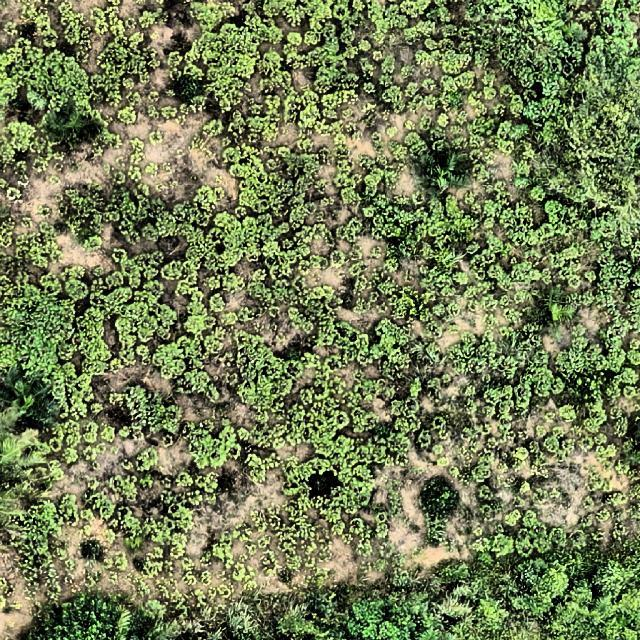Kelapa_Sawit: (2, 368, 64, 426), (42, 104, 102, 152), (534, 282, 582, 334), (420, 152, 476, 194)
